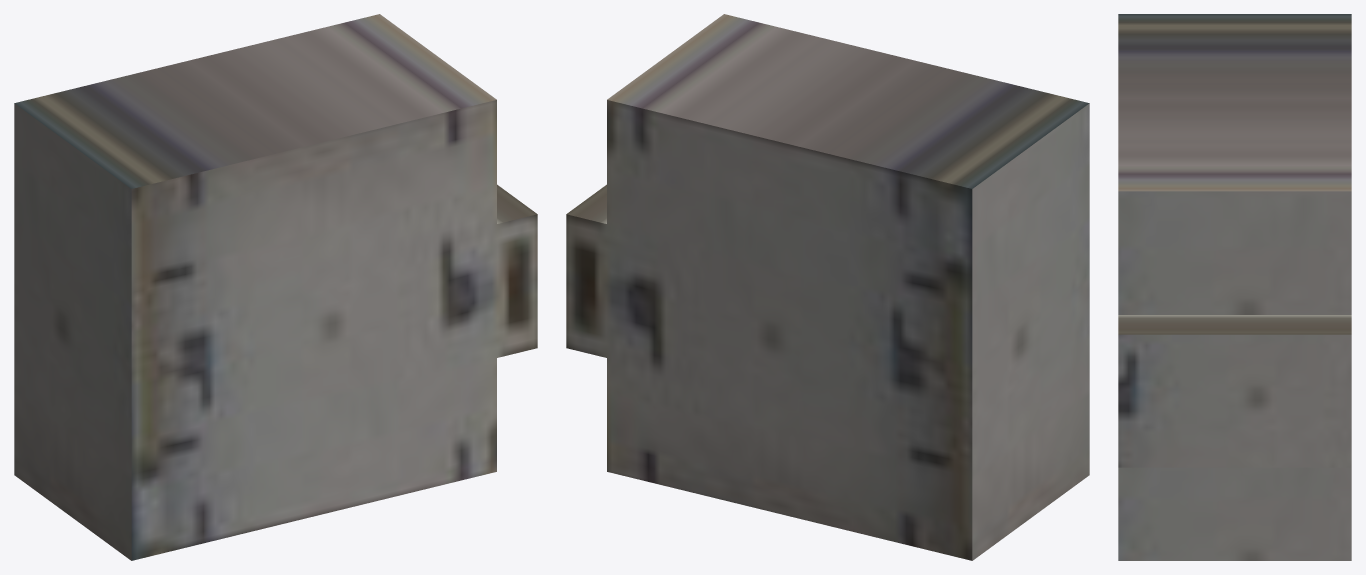
Rendered from s4_truss_23_battery_top_left.dae.
The picture shows the model from 3 angles, left to right: view 1: azimuth 30°, elevation 25°; view 2: azimuth 150°, elevation 25°; view 3: azimuth 270°, elevation 25°; orthographic projection.
Parts seen in each view (by area): view 1: 23 S4 Truss; view 2: 23 S4 Truss; view 3: 23 S4 Truss.
Part boxes in pixels (left/top/right/bottom): 23 S4 Truss: left=14, top=14, right=537, bottom=560; 23 S4 Truss: left=566, top=14, right=1089, bottom=560; 23 S4 Truss: left=1118, top=14, right=1351, bottom=560.
Bounding box in the file's own units: 1.05 × 0.5252 × 0.9191.
2 materials, 2 textured.
